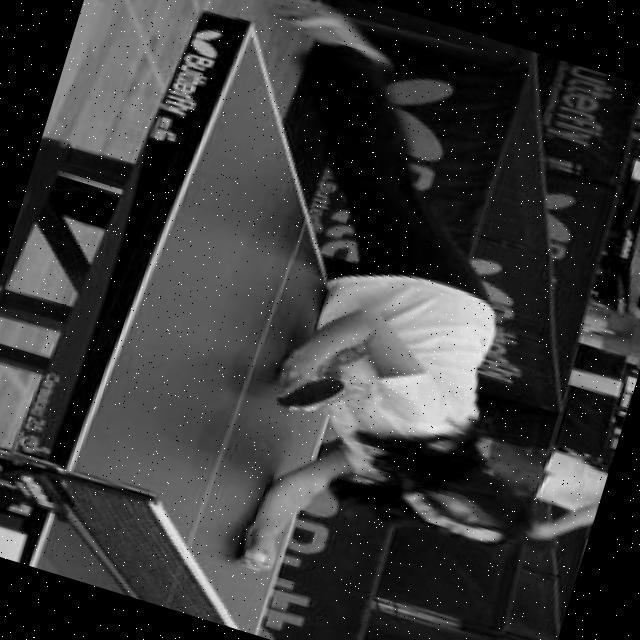ping-pong-ball: (243, 544, 269, 571)
